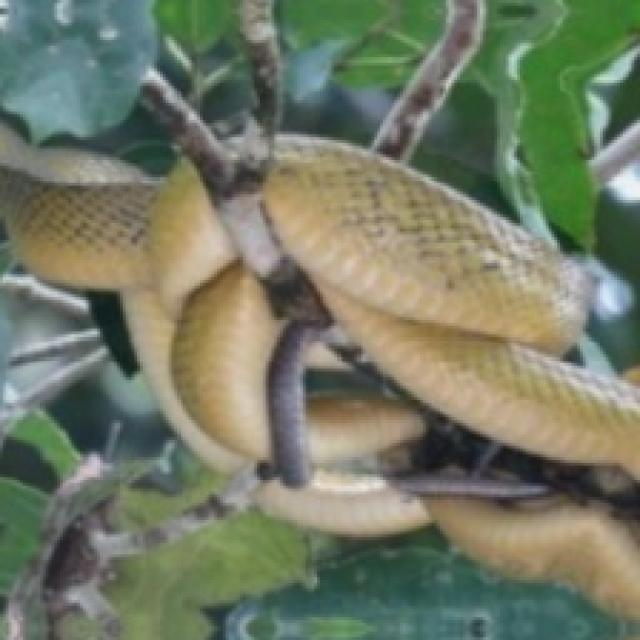red-tailed green ratsnake: (260, 134, 637, 477), (0, 126, 283, 469), (429, 497, 626, 560), (257, 474, 411, 531)
